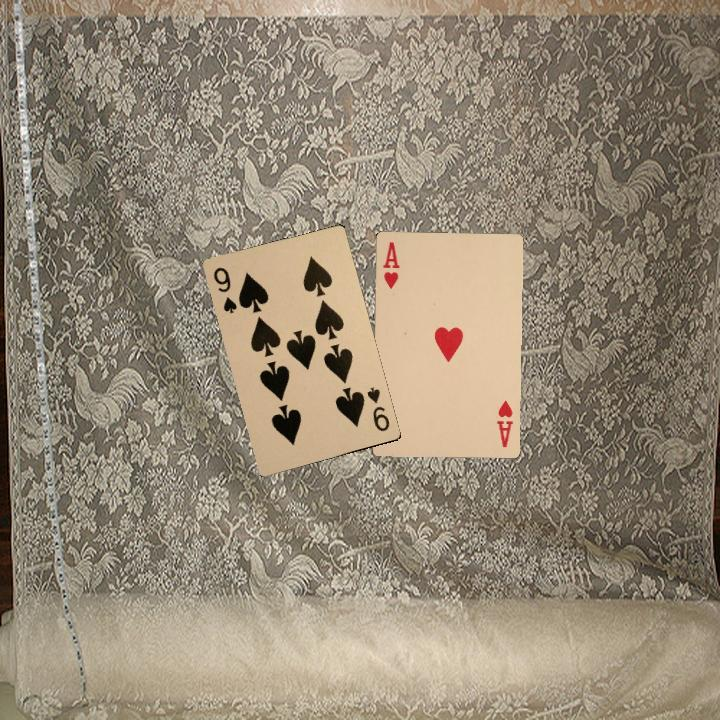9s: (209, 263, 239, 316), (363, 383, 392, 434)
Ah: (493, 396, 516, 450), (379, 238, 402, 291)
